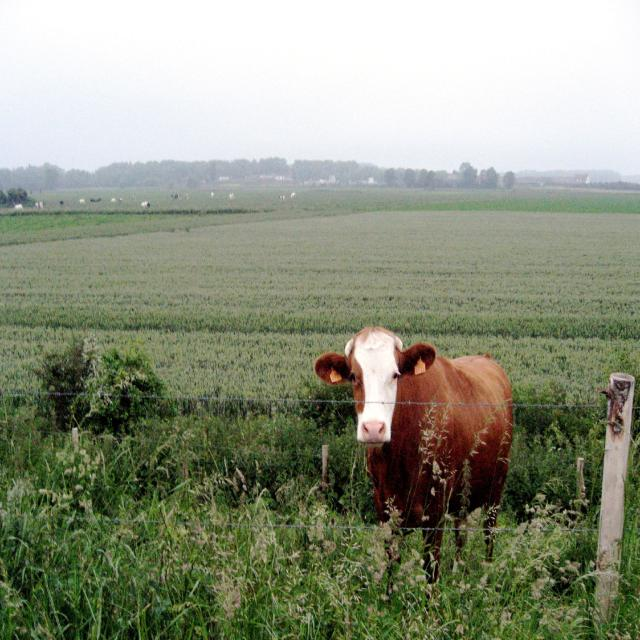cow: (315, 327, 512, 583)
